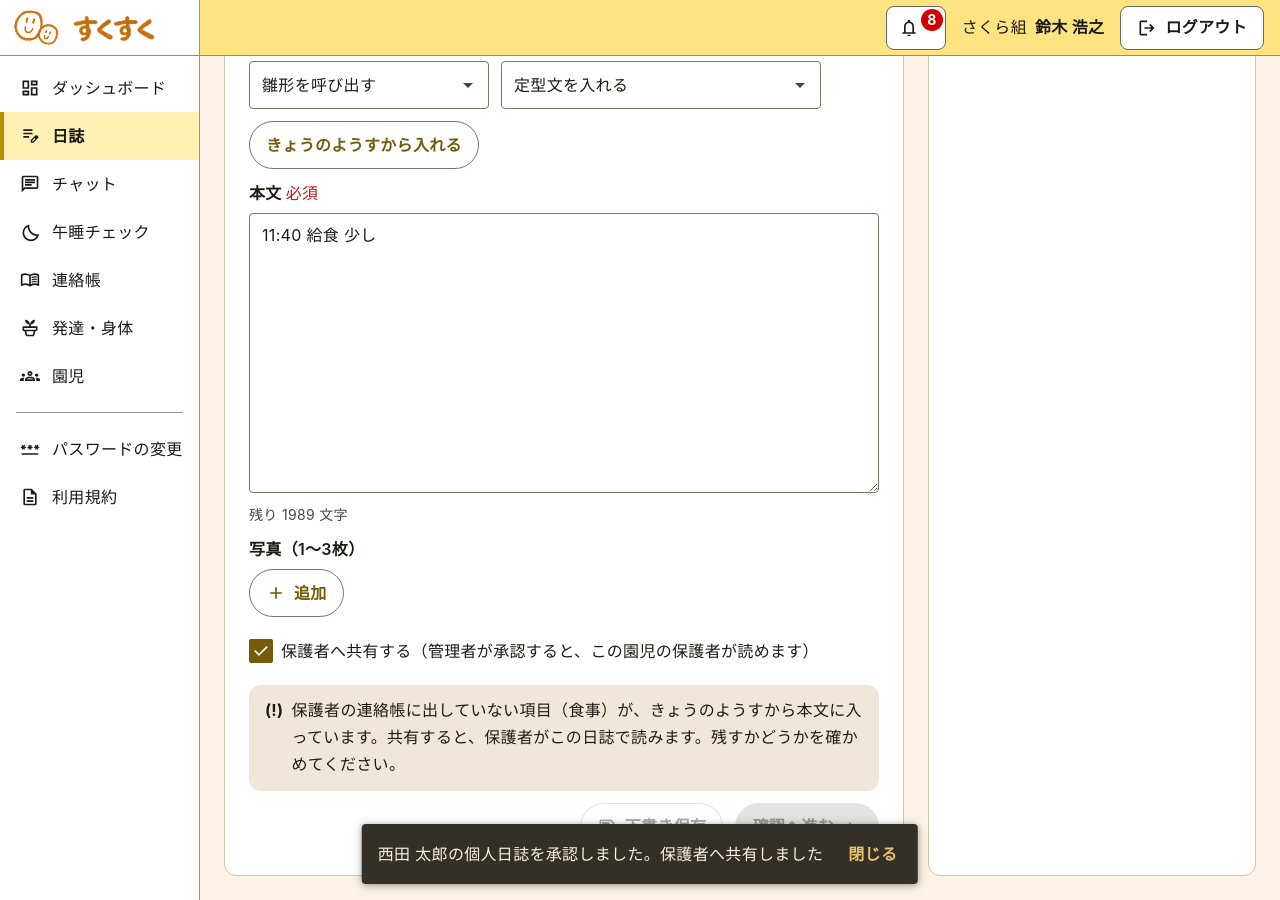
Test: 日誌作成・編集画面と日誌承認画面：保護者の連絡帳に出していない項目の注意 › 作成・編集画面：共有を選んでいるあいだだけ、名前を挙げて注意する
(page scrolled)
Click the checkbox labelled "保護者へ共有する（管理者が承認すると、この園児の保護者が読めます）".
click(261, 651)  # box [249,639,273,663]
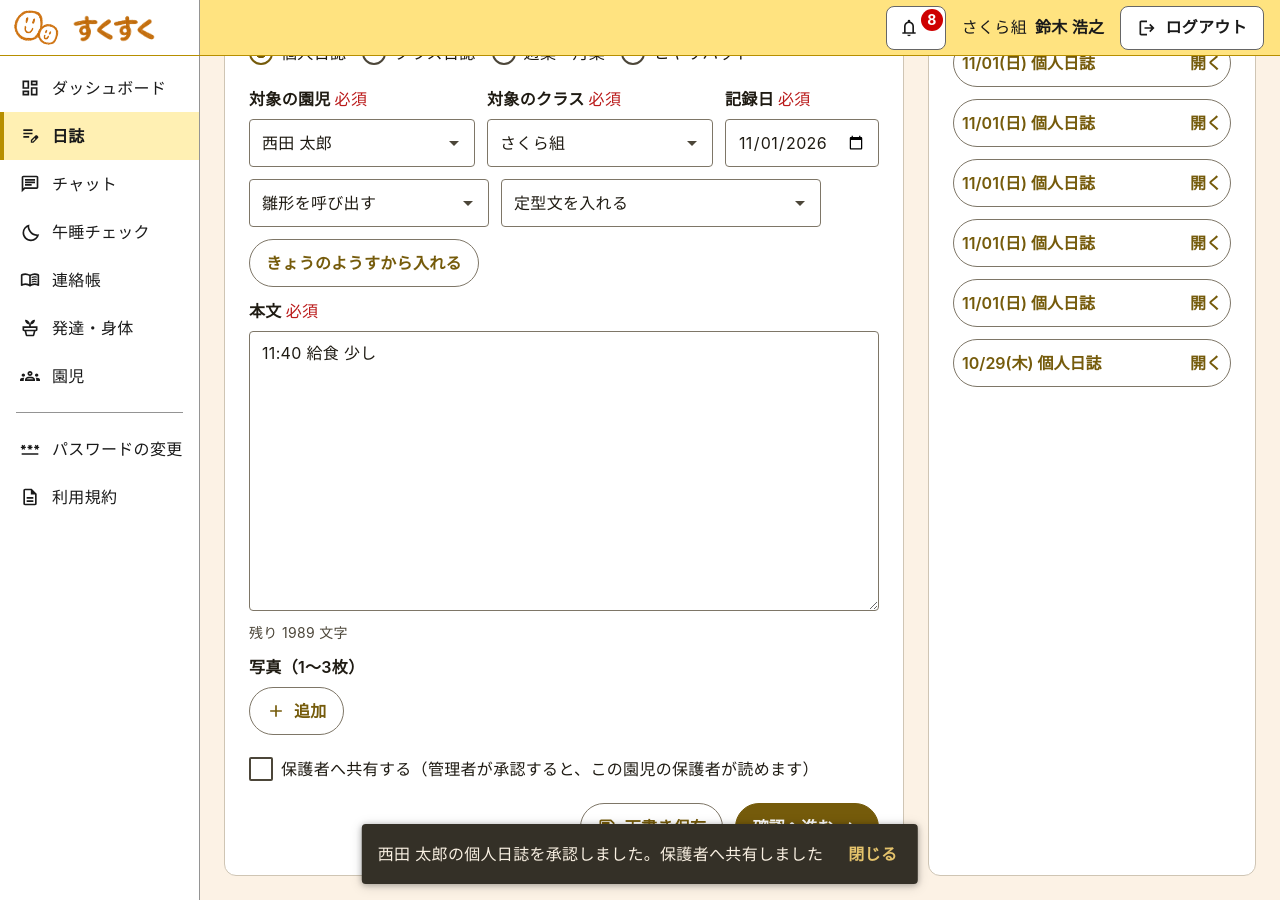
Check: the text "保護者の連絡帳に出していない項目" is gone
